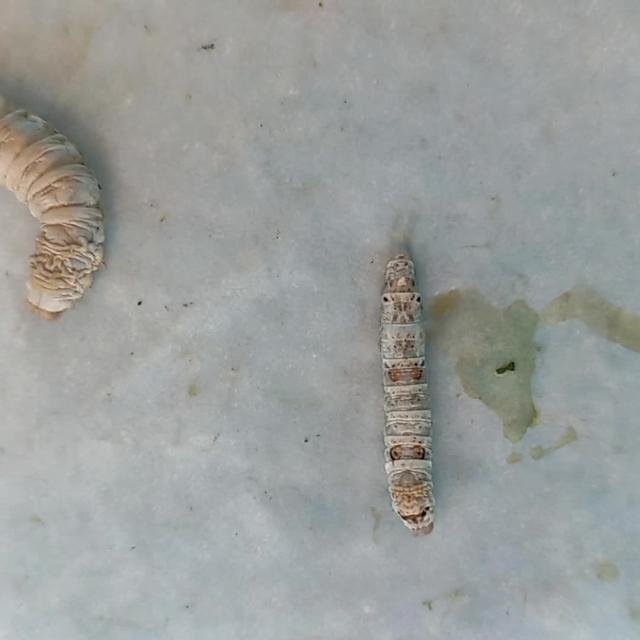Grasserie: (317, 214, 508, 552)
